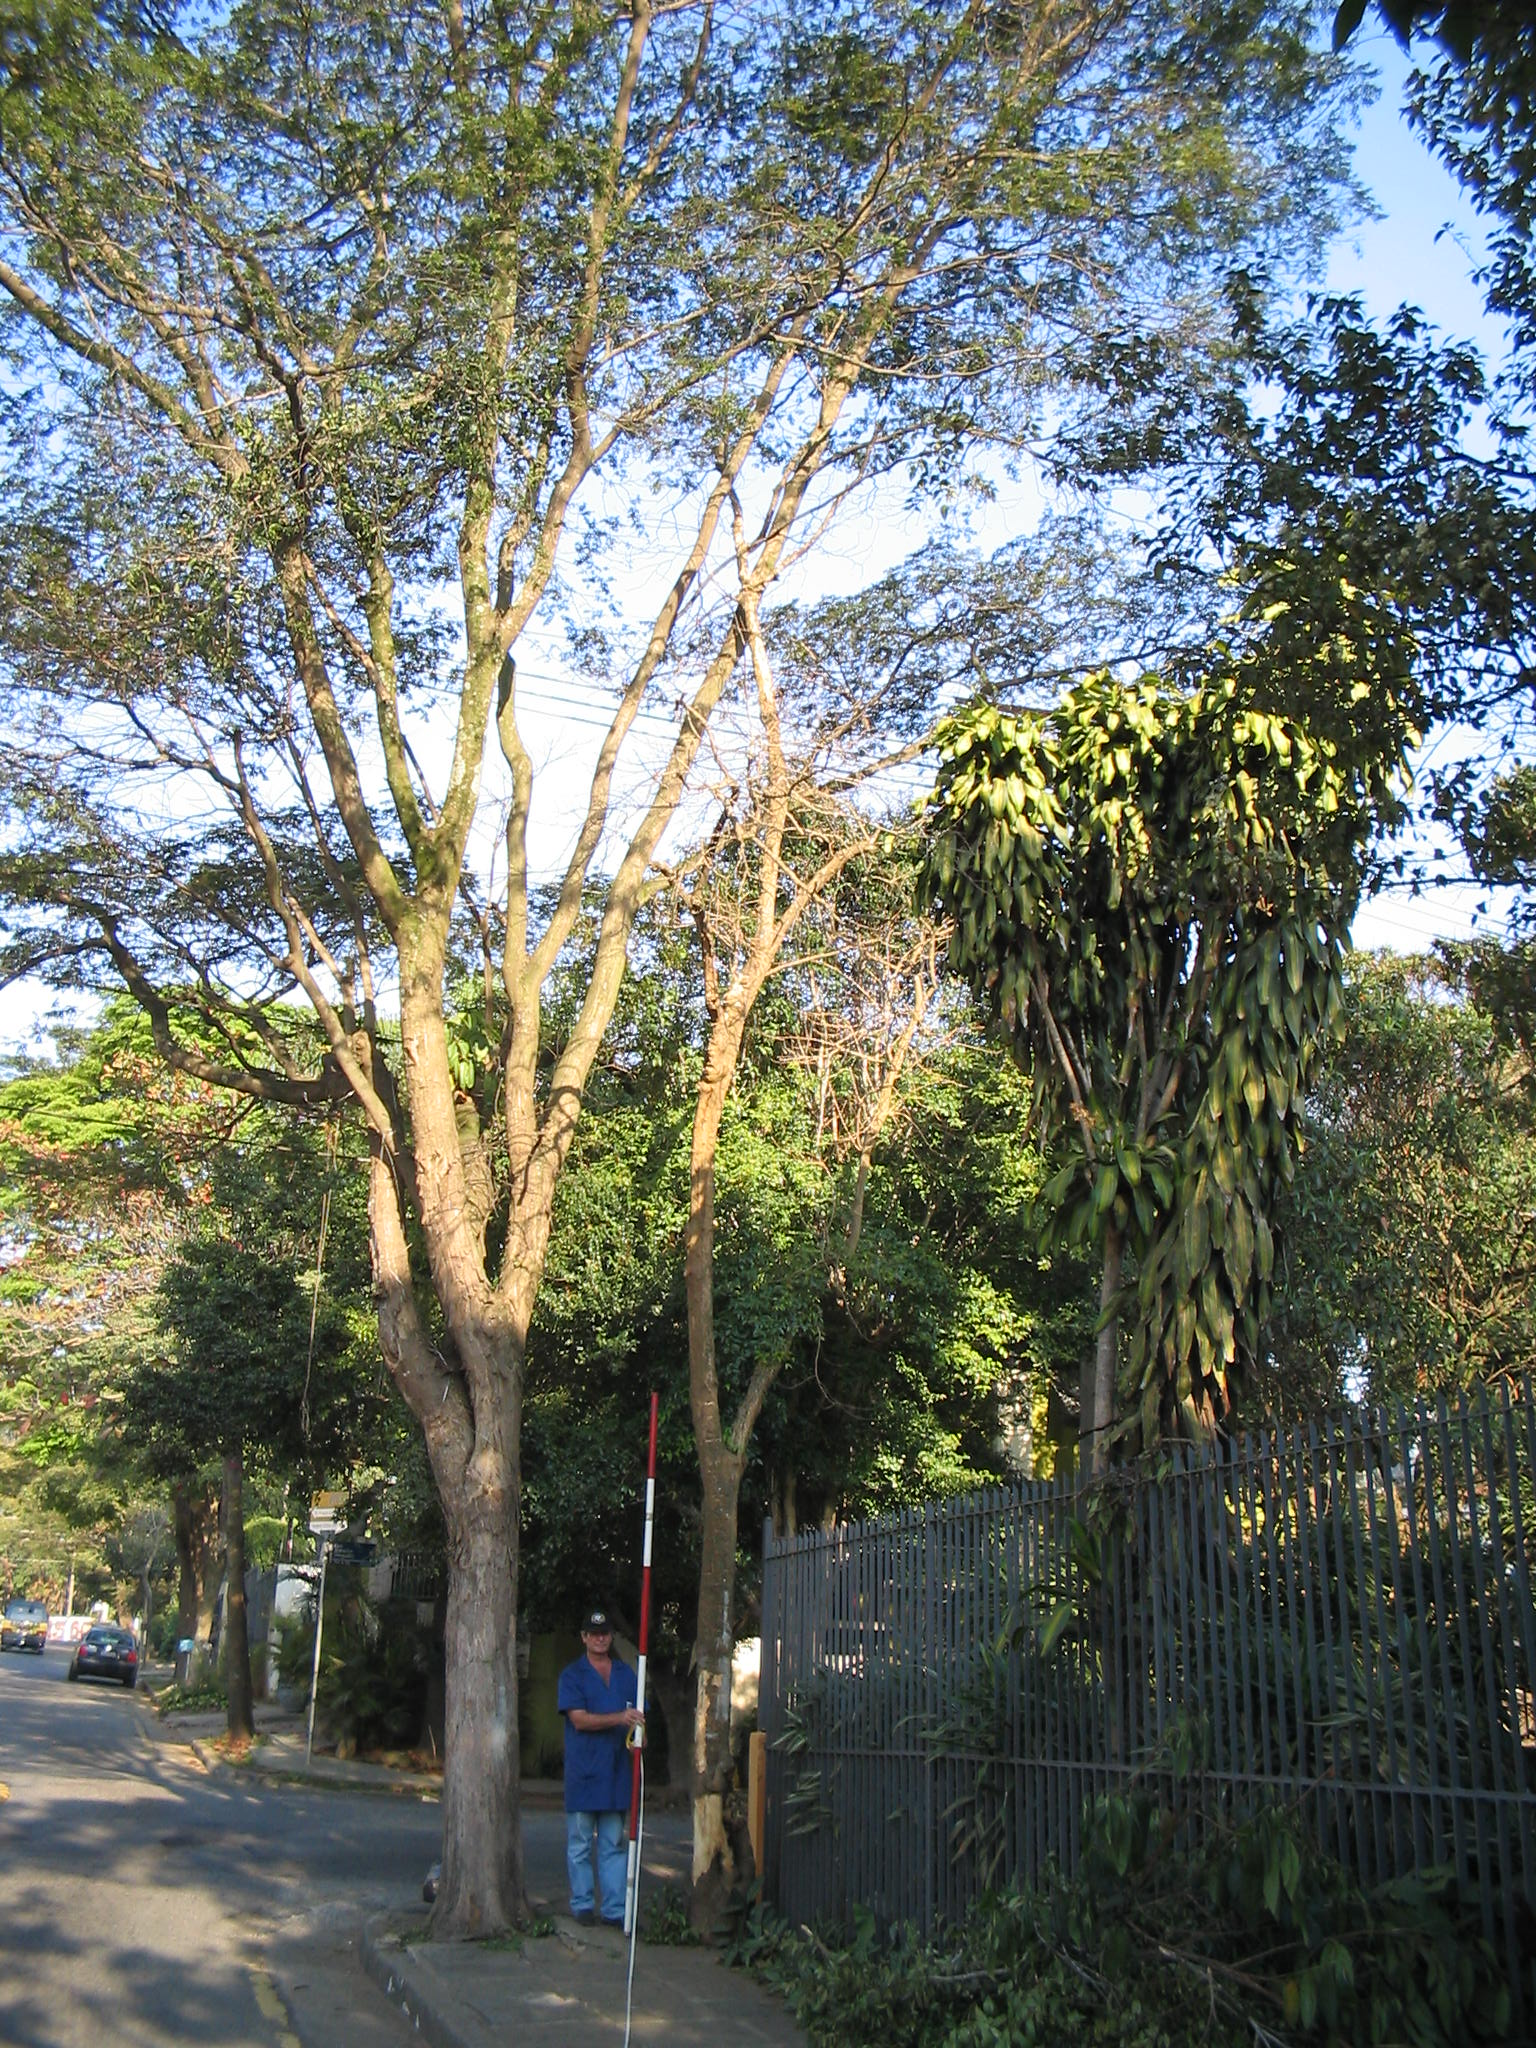stem: (389, 1453, 557, 1940)
stick: (603, 1384, 670, 1940)
tree: (11, 3, 1120, 1945)
